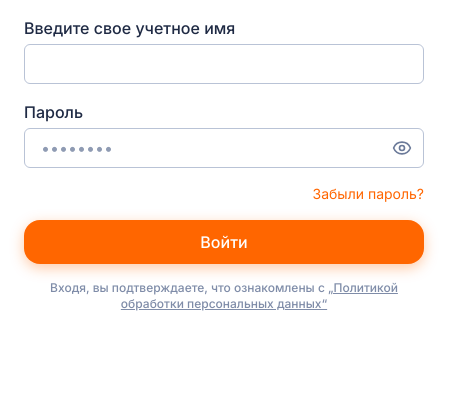
Test: LoginForm › Accessibility › should have role="alert" for error message container
Type "test@example.com" into the field labelled "Введите свое учетное имя" at {"x": 224, "y": 64}, box [24,44,424,84]
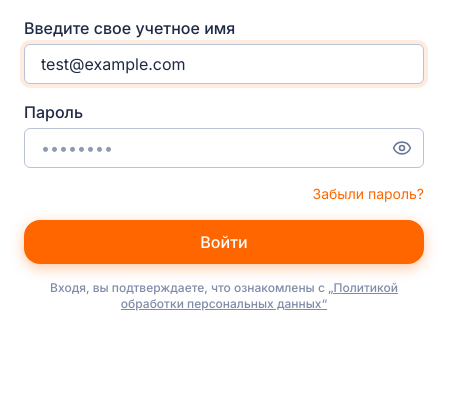
Type "WrongPass123" into the password field labelled "Пароль" at {"x": 224, "y": 148}, box [24,128,424,168]
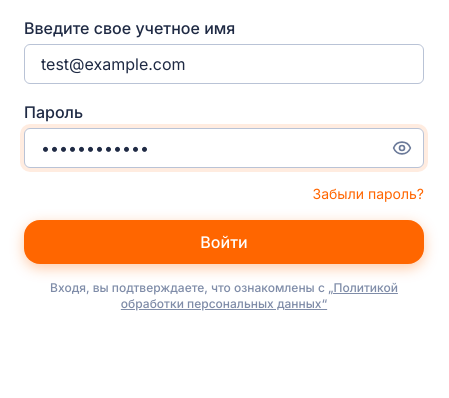
Click the button "Войти" at {"x": 224, "y": 242}, box [24,220,424,264]
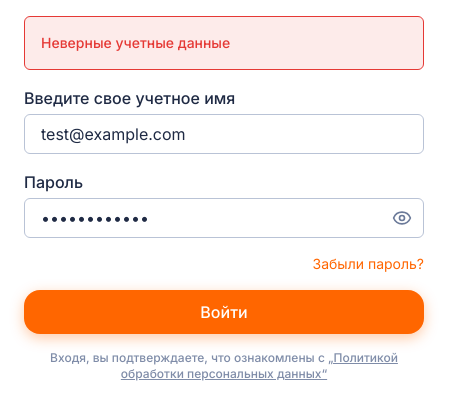
Check: the message "Неверные учетные данные" is shown, box [24,16,424,70]
